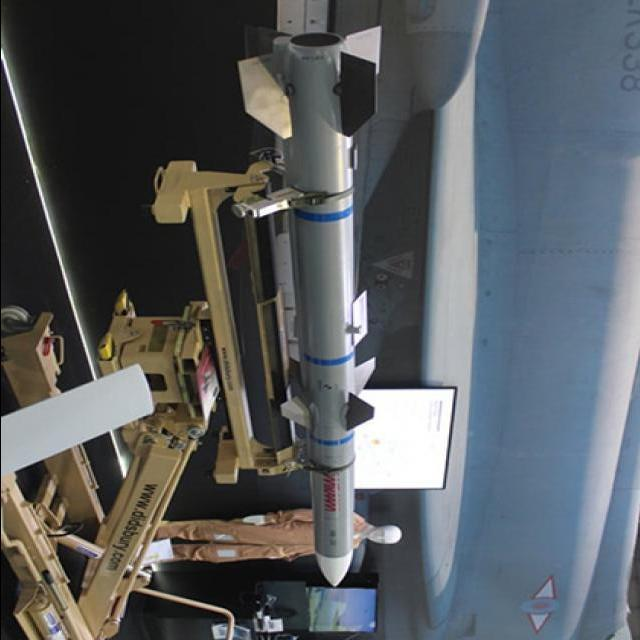missile: (302, 37, 376, 586)
